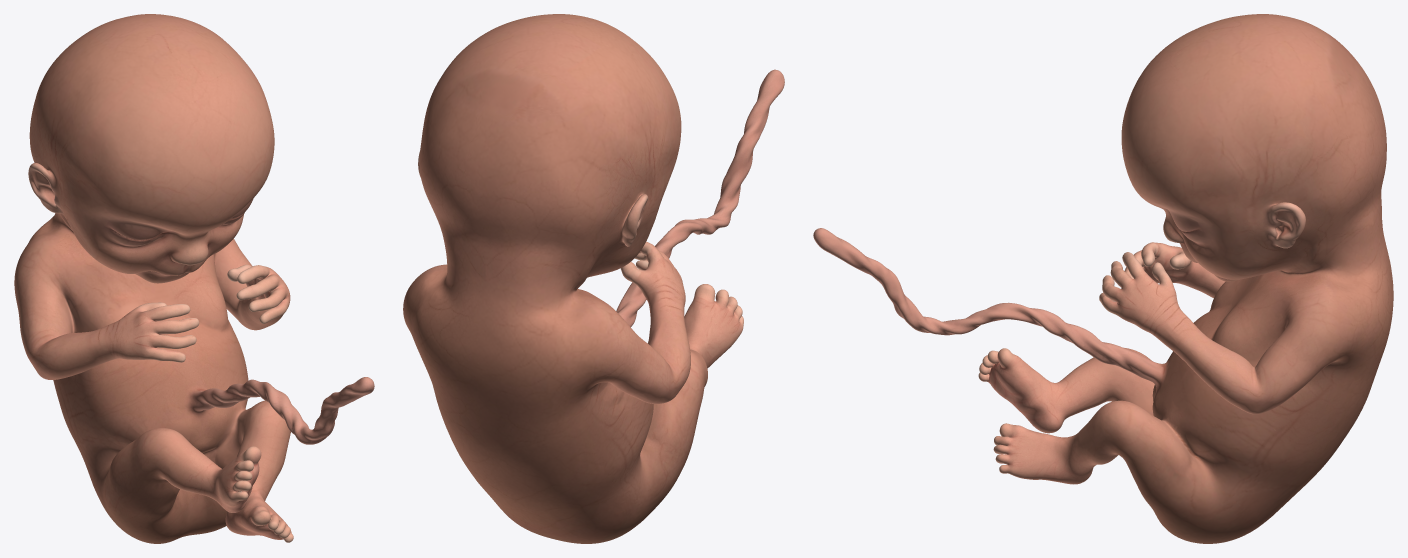
File: semaine-13.glb
The picture shows the model from 3 angles, left to right: view 1: azimuth 30°, elevation 25°; view 2: azimuth 150°, elevation 25°; view 3: azimuth 270°, elevation 25°; orthographic projection. The views are drawn at different scales.
Size of the model in its own units: 0.9335 by 1.83 by 1.9.
1 material, 1 textured.
